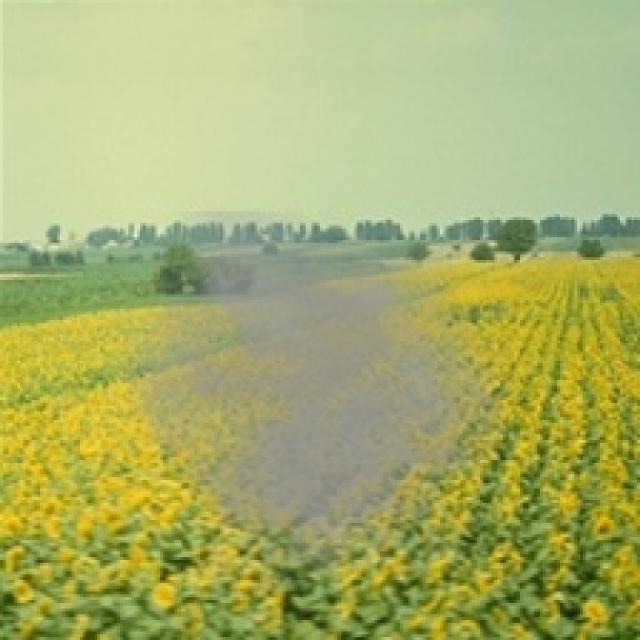Smoke: (100, 212, 526, 617)
